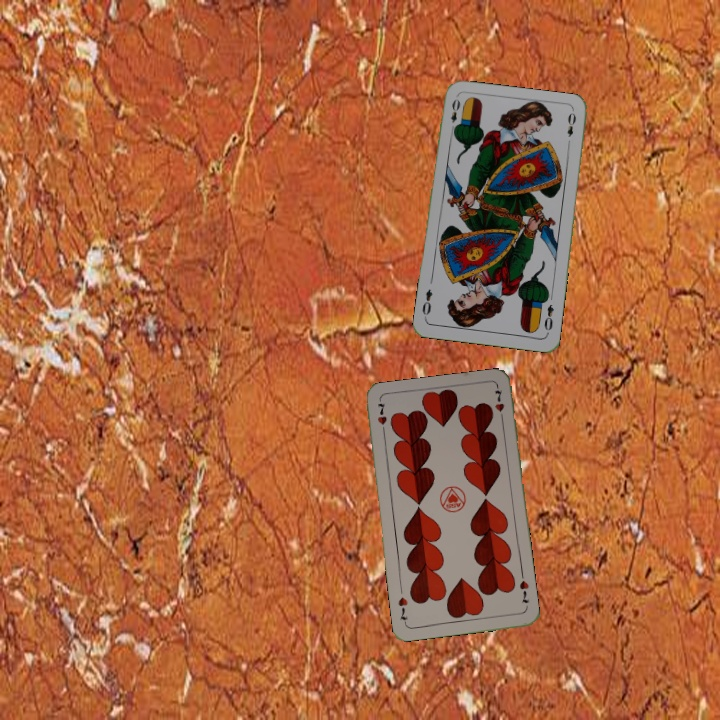EO: (447, 95, 463, 135), (540, 300, 556, 333)
H7: (373, 399, 389, 438), (515, 576, 532, 606)
